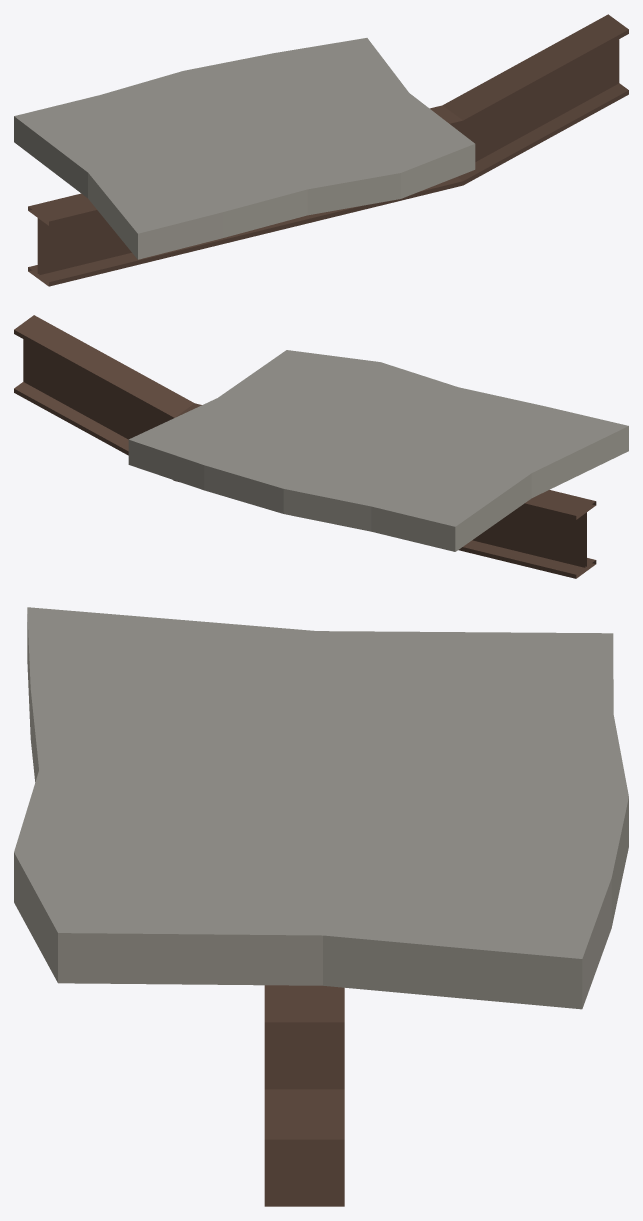
File: debris_seattle_steel_beam.glb
3 renders of one model, top to bottom at view 1: azimuth 30°, elevation 25°; view 2: azimuth 150°, elevation 25°; view 3: azimuth 270°, elevation 25°, orthographic. The views are drawn at different scales.
Parts seen in each view (by area): view 1: debris_seattle_steel_beam; view 2: debris_seattle_steel_beam; view 3: debris_seattle_steel_beam.
Boxes of the visible parts, x1,y1,x2,y2 form: debris_seattle_steel_beam: (14, 14, 628, 286); debris_seattle_steel_beam: (14, 315, 628, 578); debris_seattle_steel_beam: (14, 607, 628, 1206).
Bounding box in the file's own units: 4.2 × 0.7998 × 1.99.
Materials: 1 (1 with a texture image).
